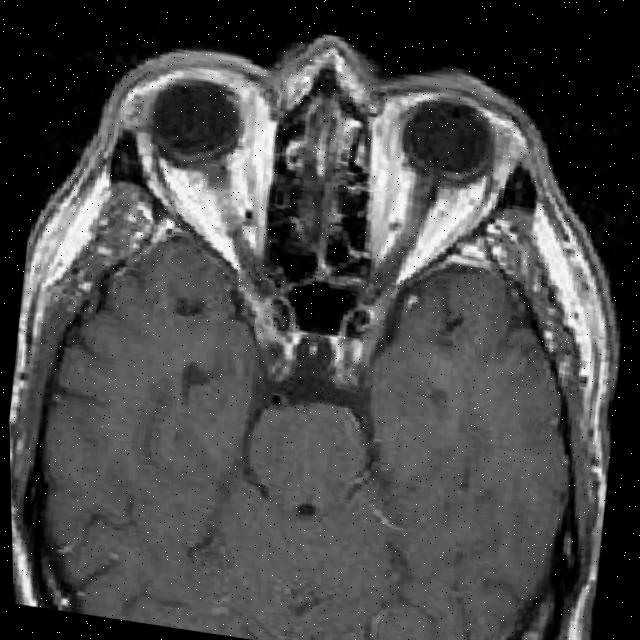NoTumor: (4, 186, 639, 640)
